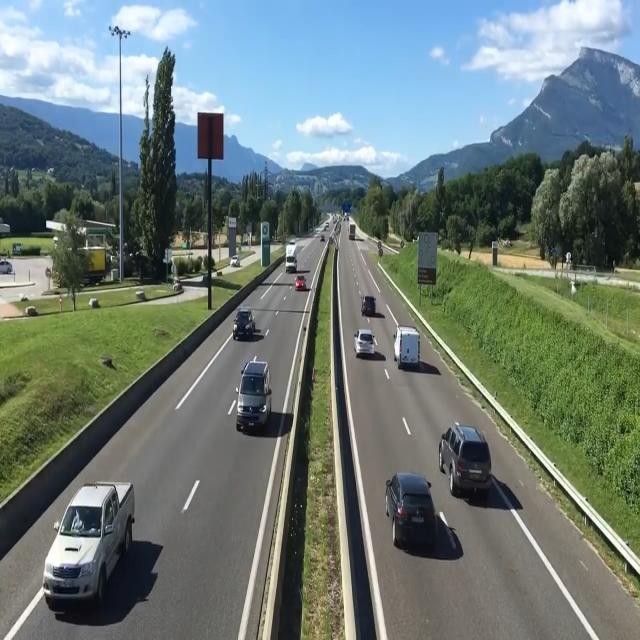car: (42, 476, 141, 614), (391, 476, 451, 563), (441, 421, 492, 502), (235, 357, 271, 435), (396, 325, 424, 375), (229, 302, 263, 343), (356, 328, 379, 362), (361, 291, 383, 320), (293, 272, 309, 296)
